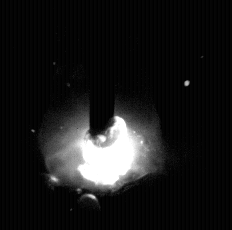arame: (90, 0, 115, 137)
poca: (39, 0, 163, 230)
